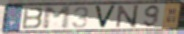3: (72, 6, 90, 29)
9: (142, 4, 161, 28)
B: (21, 6, 46, 30)
M: (42, 5, 72, 30)
N: (114, 4, 140, 29)
V: (93, 5, 118, 29)
